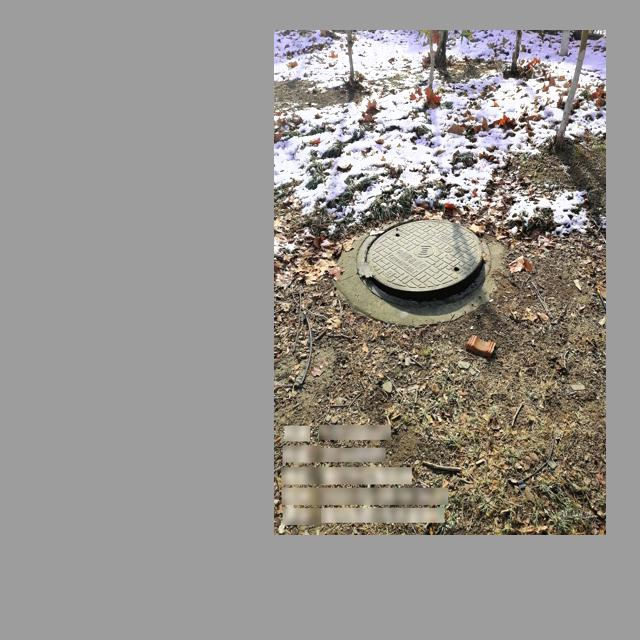uncovered: (354, 211, 489, 299)
